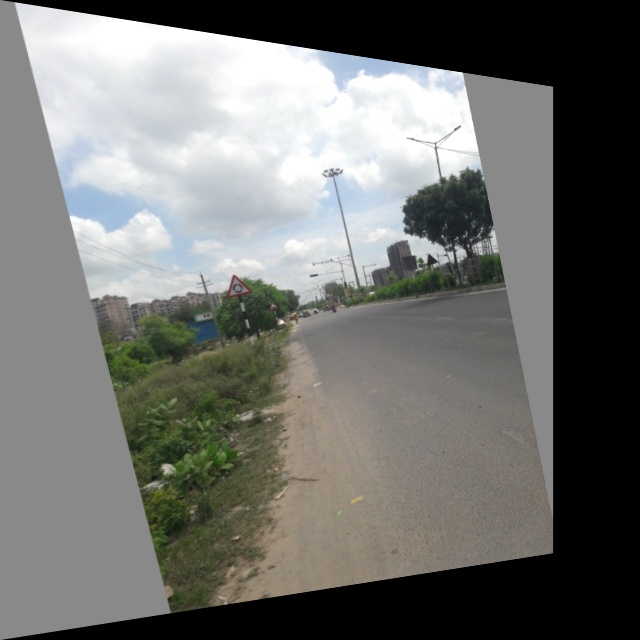Round_About: (218, 267, 257, 302)
